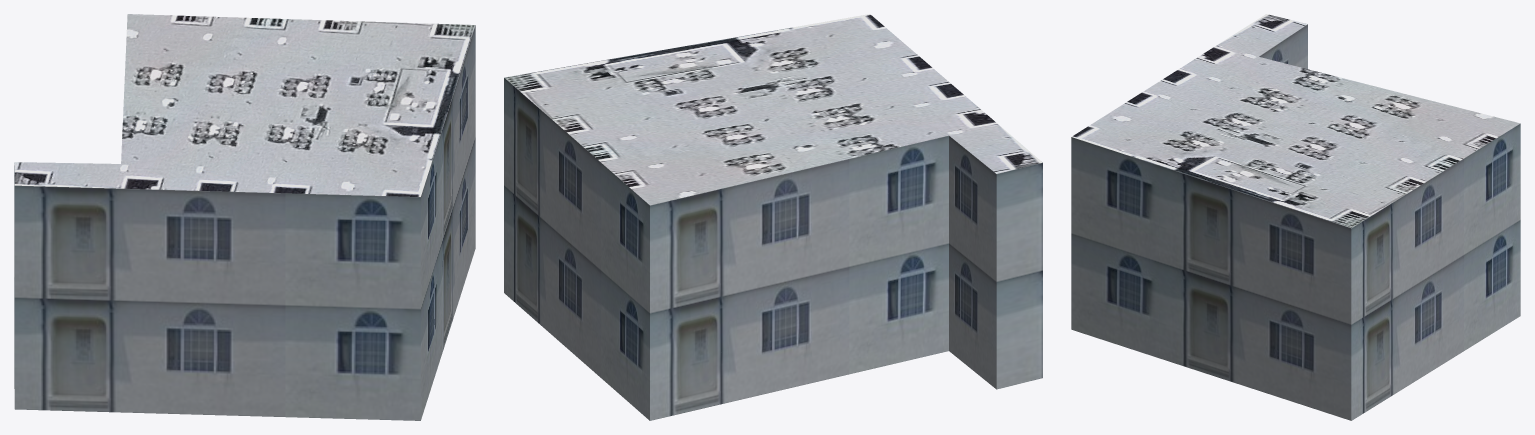
The model's file is ResTex__3852.fbx.
3 views of the same model, side by side, from view 1: azimuth 30°, elevation 25°; view 2: azimuth 150°, elevation 25°; view 3: azimuth 270°, elevation 25° (orthographic). The views are drawn at different scales.
Visible parts, largest first — view 1: CityEngineMaterial_17_m, CityEngineMaterial_m; view 2: CityEngineMaterial_17_m, CityEngineMaterial_m; view 3: CityEngineMaterial_17_m, CityEngineMaterial_m.
Boxes of the visible parts, bbox=[...] form: CityEngineMaterial_17_m: bbox=[14, 25, 475, 420]; CityEngineMaterial_m: bbox=[14, 14, 475, 196]; CityEngineMaterial_17_m: bbox=[504, 78, 1042, 420]; CityEngineMaterial_m: bbox=[504, 14, 1042, 205]; CityEngineMaterial_17_m: bbox=[1071, 24, 1520, 420]; CityEngineMaterial_m: bbox=[1072, 14, 1519, 228].
Size of the model in its own units: 14.31 by 6 by 12.68.
2 materials, 2 textured.
